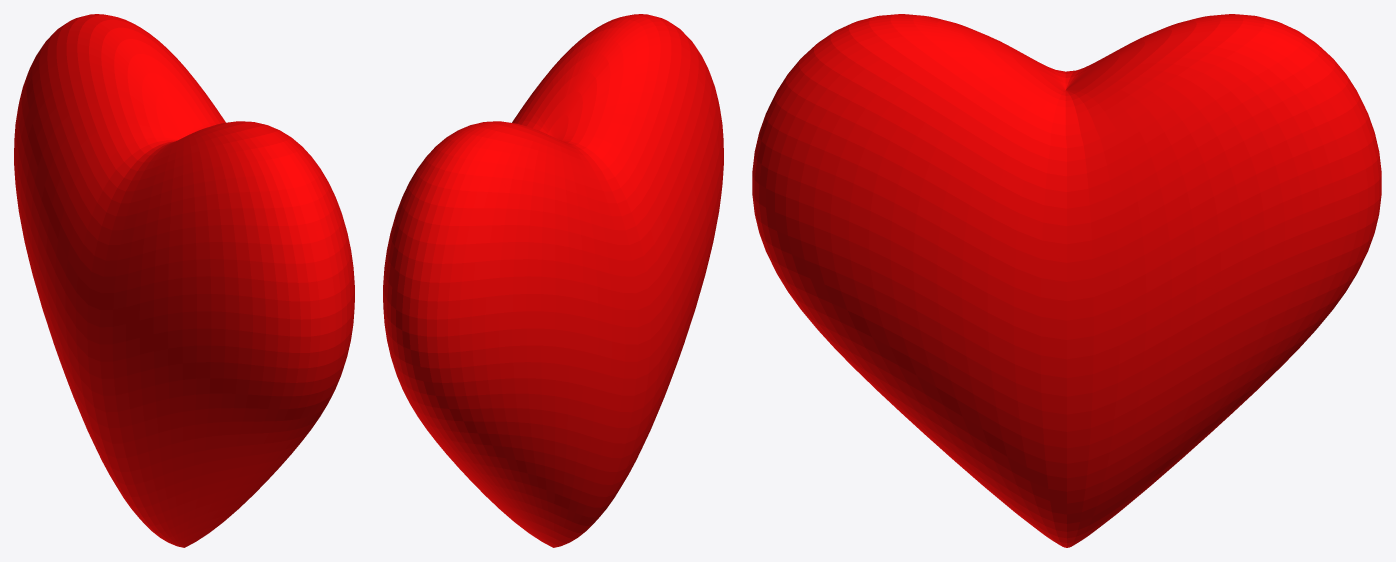
Rendered from normal.obj.
3 views of the same model, side by side, from view 1: azimuth 30°, elevation 25°; view 2: azimuth 150°, elevation 25°; view 3: azimuth 270°, elevation 25° (orthographic). The views are drawn at different scales.
Visible parts, largest first — view 1: Heart group group1 polySurface2 polySurface1 group2; view 2: Heart group group1 polySurface2 polySurface1 group2; view 3: Heart group group1 polySurface2 polySurface1 group2.
Part boxes in pixels (x1,y1,x2,y2): Heart group group1 polySurface2 polySurface1 group2: (14,14,354,547); Heart group group1 polySurface2 polySurface1 group2: (383,14,723,547); Heart group group1 polySurface2 polySurface1 group2: (752,14,1381,547).
Size of the model in its own units: 1.95 by 4.51 by 4.87.
